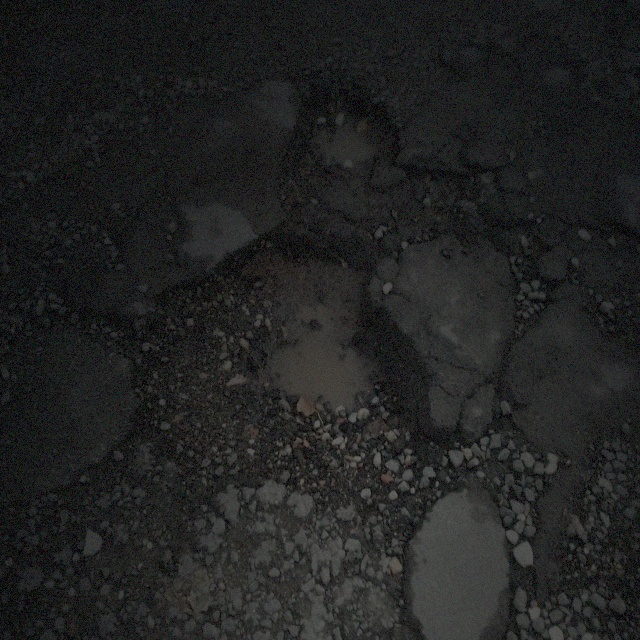pothole: (153, 222, 388, 416), (293, 68, 401, 190), (487, 200, 557, 340)
